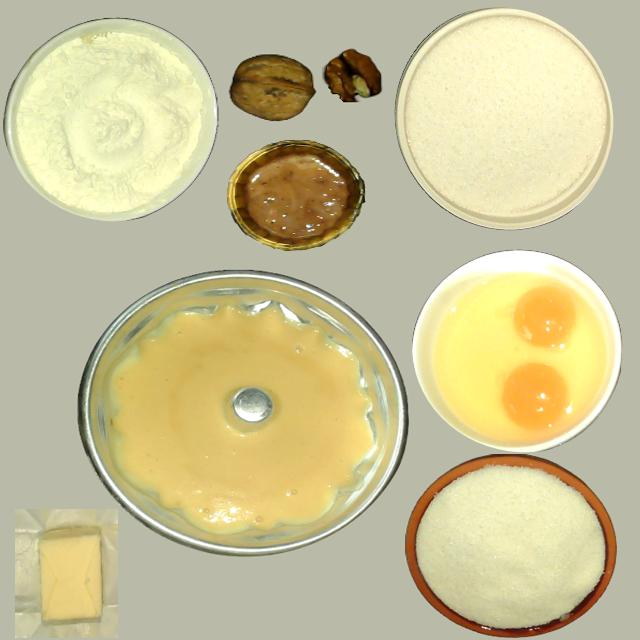Egg: (496, 358, 575, 435), (500, 281, 586, 351)
Flour: (1, 9, 220, 226)
Sugar: (395, 10, 623, 242), (403, 453, 620, 640)
Walnut: (226, 47, 326, 127)
